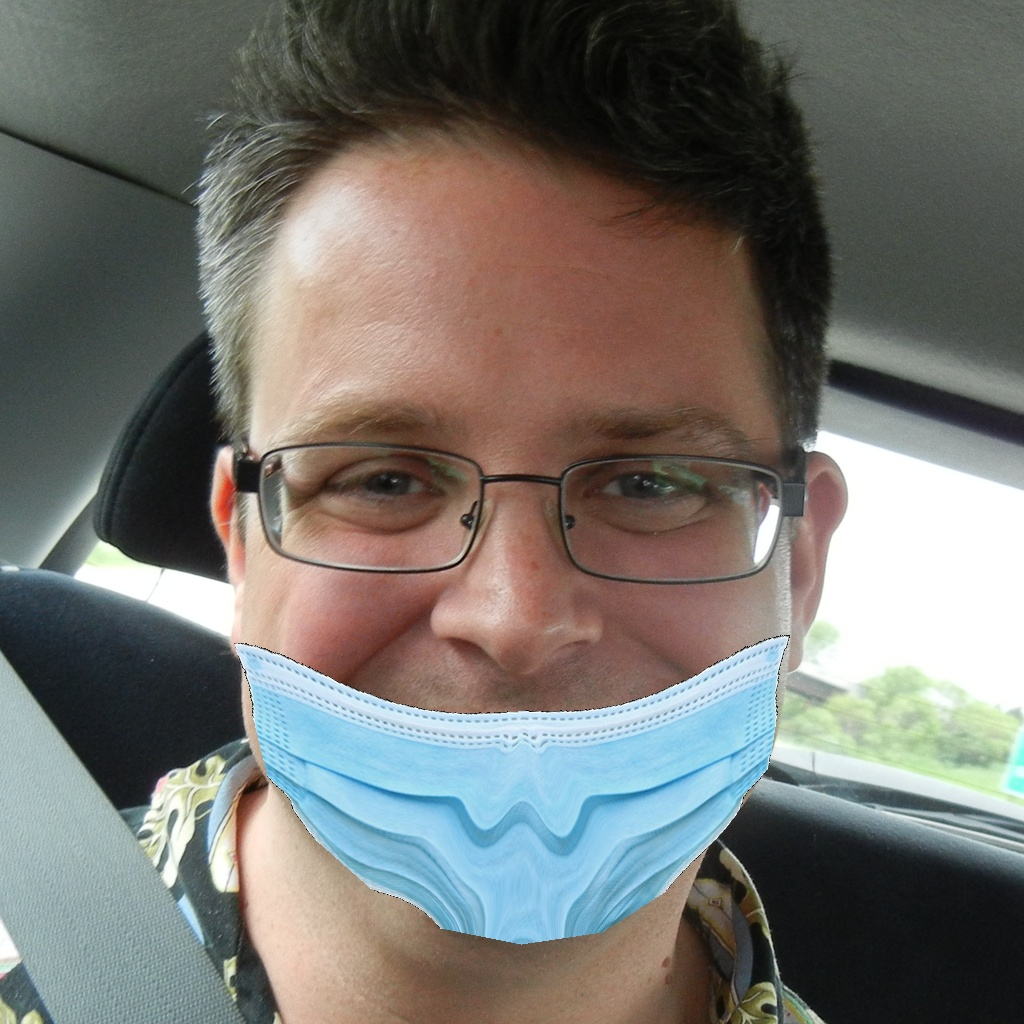mascarilla_mal_puesta: (239, 375, 782, 960)
